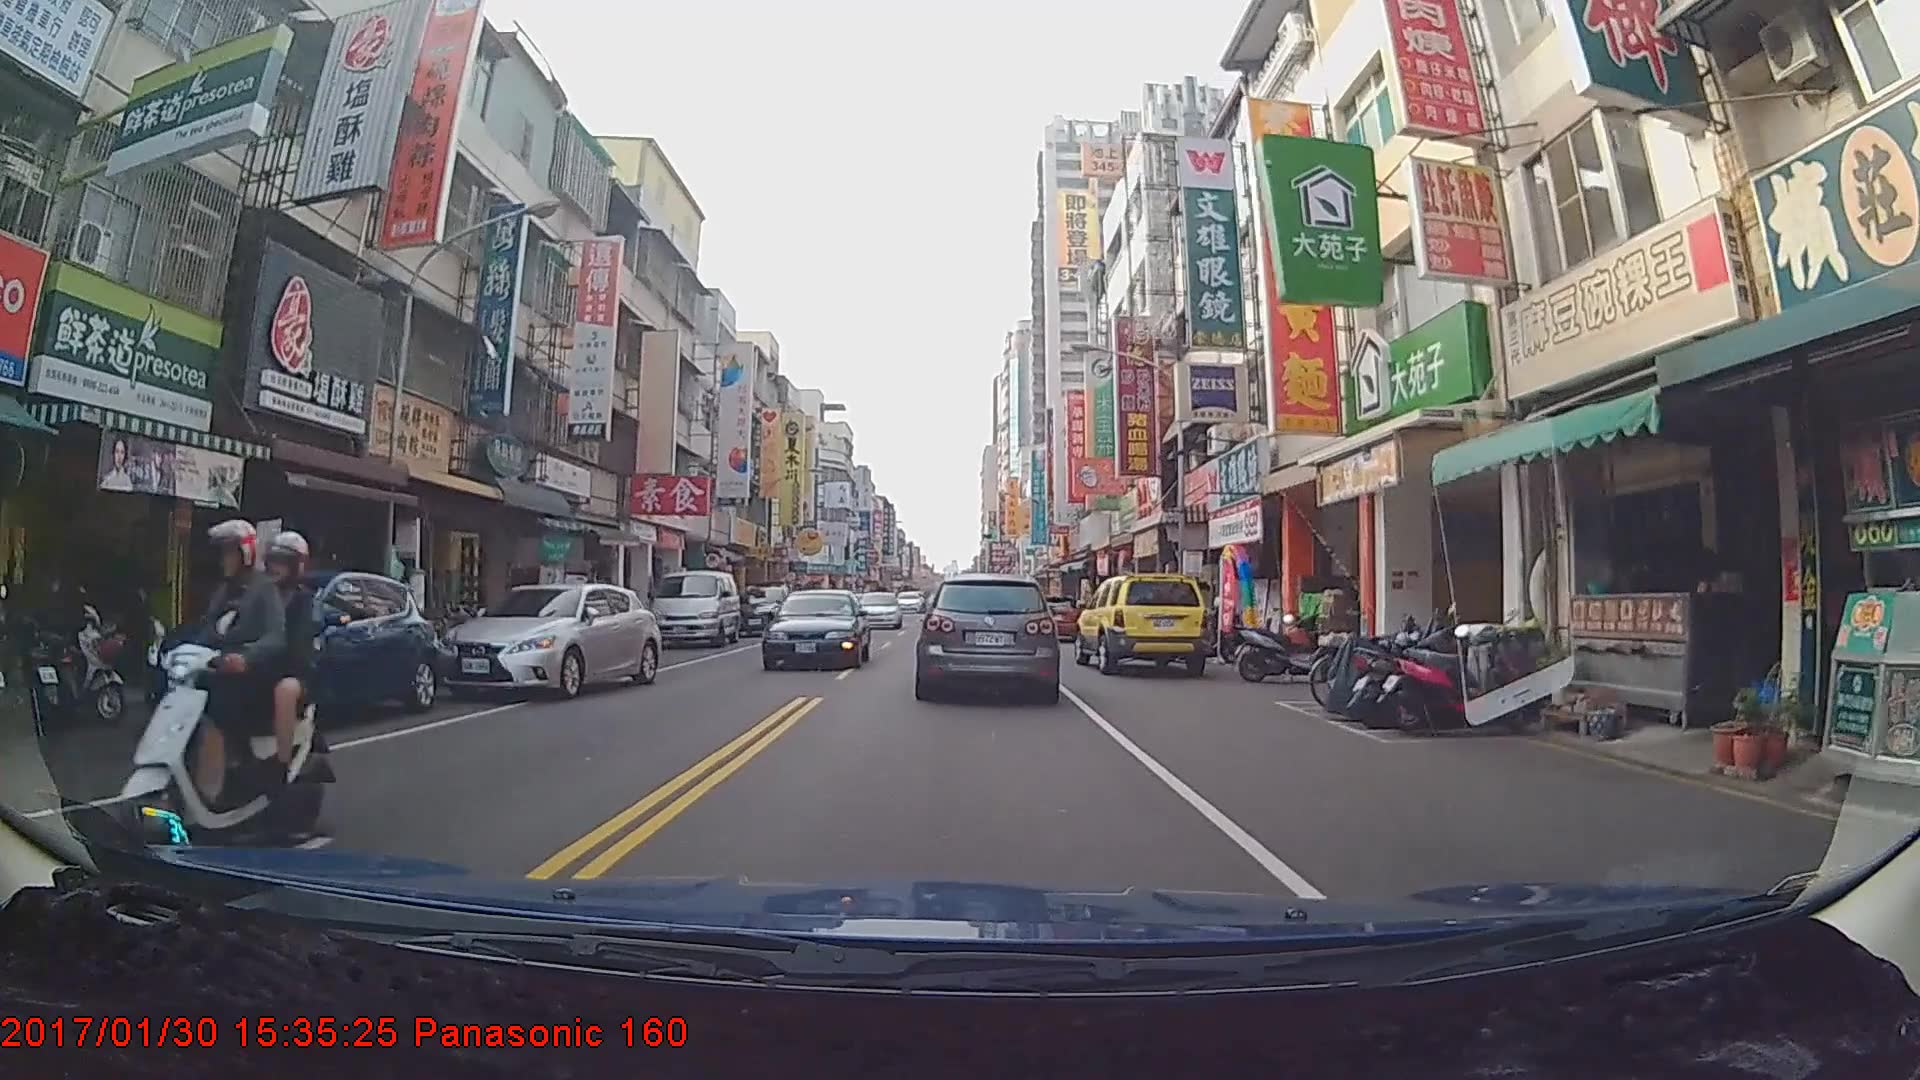rider: (131, 516, 313, 856)
vehicle: (143, 570, 439, 736), (432, 577, 660, 697), (915, 573, 1058, 700), (1076, 567, 1210, 675), (760, 587, 869, 669), (645, 567, 741, 645), (731, 585, 791, 636), (855, 591, 902, 630)
